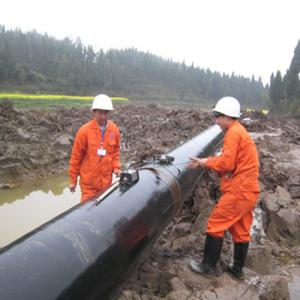white: (214, 96, 242, 130), (92, 94, 114, 125)
